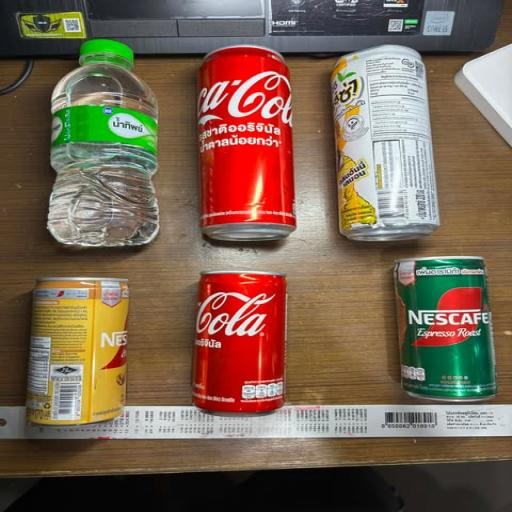bottle: (23, 26, 179, 262)
canned: (313, 30, 461, 246), (178, 27, 312, 257), (160, 262, 332, 425), (18, 262, 150, 444), (375, 245, 511, 415)
